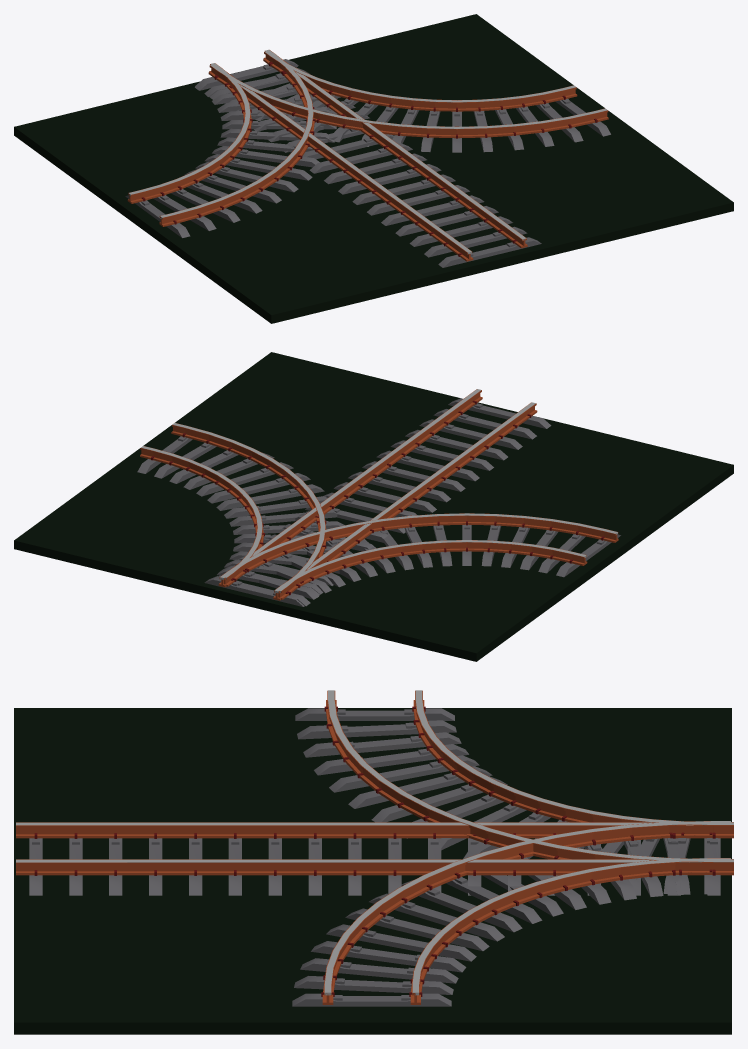
The model's file is Change.obj.
3 renders of one model, top to bottom at view 1: azimuth 30°, elevation 25°; view 2: azimuth 150°, elevation 25°; view 3: azimuth 270°, elevation 25°, orthographic. The views are drawn at different scales.
Parts seen in each view (by area): view 1: Part1, Part5, Part7, Part9, Part6, Part4, Part2, Part8, Part3, Union1, Tie26, Tie25 (+16 smaller); view 2: Part1, Part5, Part7, Part4, Part2, Part6, Part9, Part8, Part3, Tie7, Tie8, Tie6 (+14 smaller); view 3: Part1, Part4, Part6, Part3, Part2, Part8, Part5, Part7, Part9, Tie1, Tie4, Tie31 (+26 smaller).
Boxes of the visible parts, <box> form: Part1: <box>14,14,733,323</box>; Part5: <box>283,60,526,240</box>; Part7: <box>240,85,471,254</box>; Part9: <box>209,71,473,261</box>; Part6: <box>244,91,470,259</box>; Part4: <box>303,81,525,245</box>; Part2: <box>306,87,527,248</box>; Part8: <box>210,64,472,254</box>; Part3: <box>281,58,526,241</box>; Union1: <box>438,237,541,267</box>; Tie26: <box>212,146,319,167</box>; Tie25: <box>204,154,312,180</box>; Part1: <box>14,352,733,661</box>; Part5: <box>220,389,480,579</box>; Part7: <box>274,402,535,593</box>; Part4: <box>221,393,480,584</box>; Part2: <box>218,396,482,587</box>; Part6: <box>275,406,534,598</box>; Part9: <box>273,410,537,600</box>; Part8: <box>274,402,536,593</box>; Part3: <box>219,389,481,580</box>; Tie7: <box>216,484,324,510</box>; Tie8: <box>224,496,327,518</box>; Tie6: <box>207,473,310,503</box>; Part1: <box>14,708,731,1034</box>; Part4: <box>16,865,733,871</box>; Part6: <box>16,828,712,834</box>; Part3: <box>16,859,733,865</box>; Part2: <box>16,871,733,875</box>; Part8: <box>16,822,733,827</box>; Part5: <box>16,859,701,862</box>; Part7: <box>16,822,693,825</box>; Part9: <box>16,834,733,838</box>; Tie1: <box>292,993,451,1006</box>; Tie4: <box>294,976,453,994</box>; Tie31: <box>295,708,454,720</box>.
Size of the model in its own units: 56 by 2.65 by 54.16.
